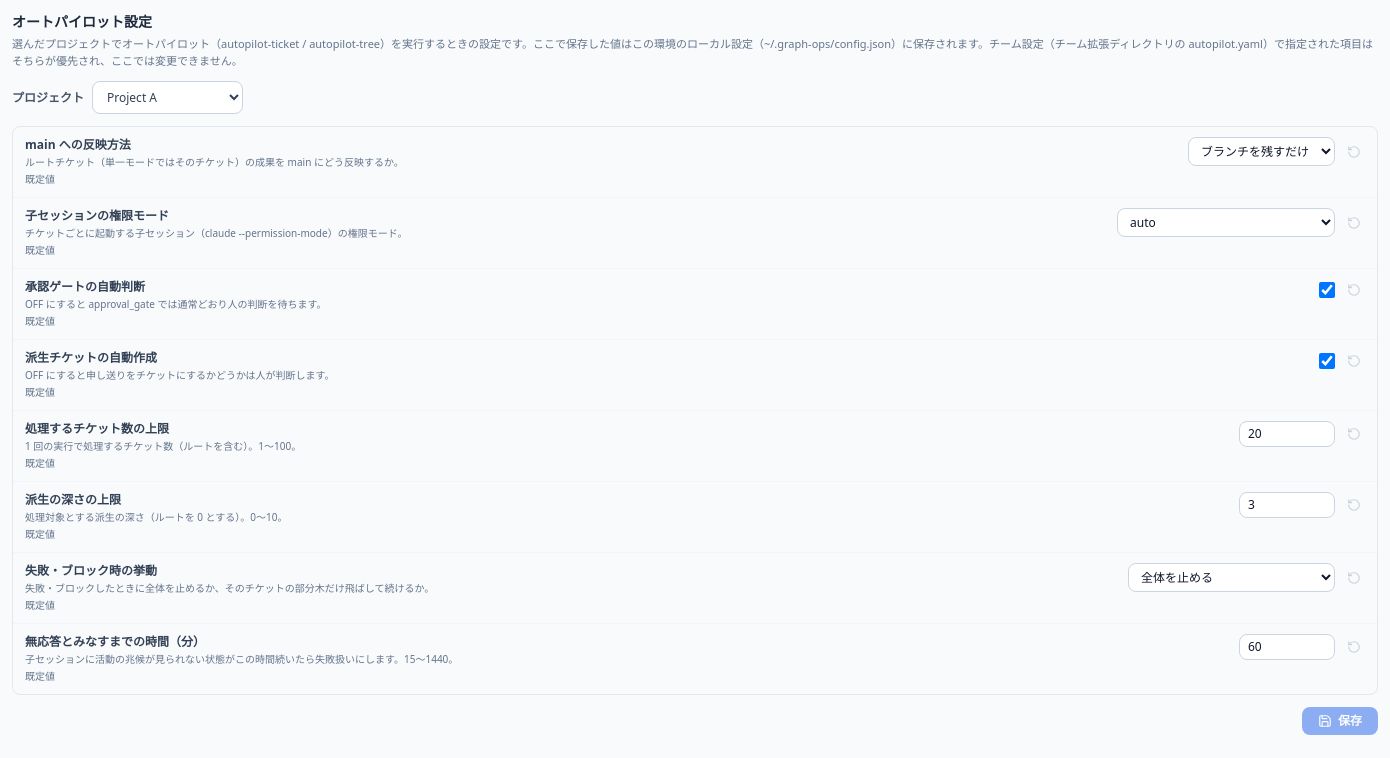
it: AutopilotSettingsEditor › warns when bypassPermissions is selected
Step 1. Select "bypassPermissions（確認なし）" in the dropdown labelled "子セッションの権限モード" → [1226, 222], box [1117,208,1335,237]
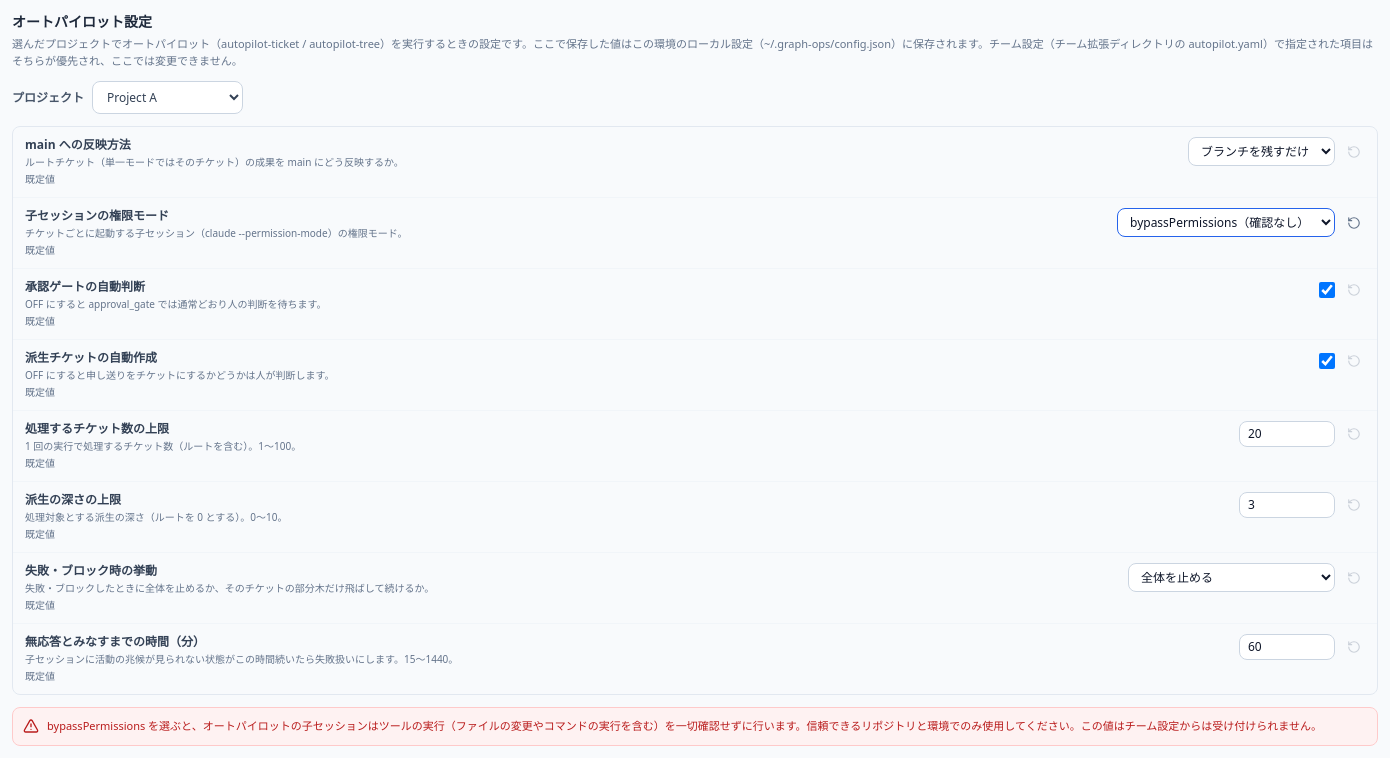
Result: the text "bypassPermissions を選ぶと、オートパイロットの子セッションはツールの実行（ファイルの変更やコマンドの実行を含む）を一切確認せずに行います。信頼できるリポジトリと環境でのみ使用してください。この値はチーム設定からは受け付けら" is shown at [47,718,1322,733]
